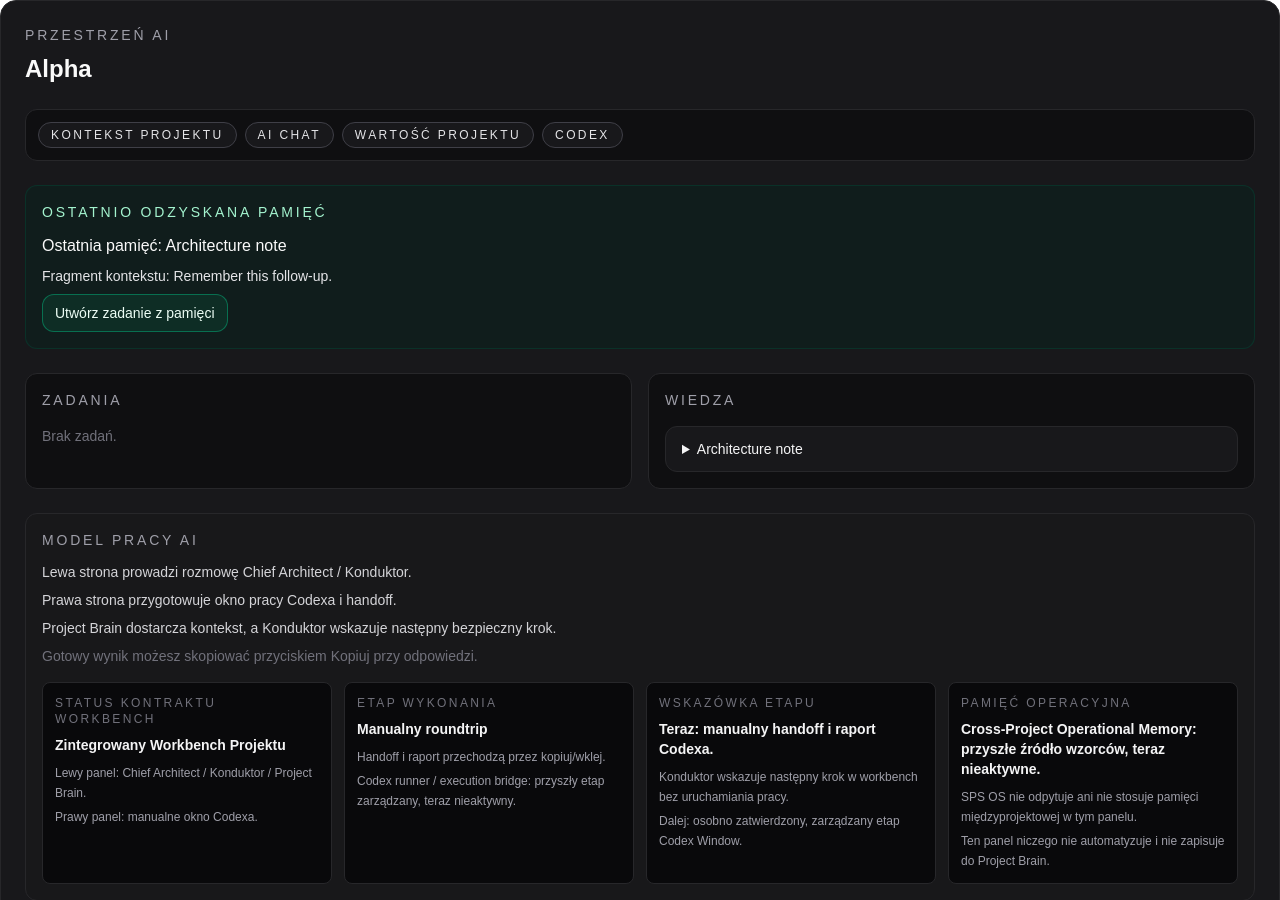
Scenario: ProjectAiWorkspacePage › creates a task from the latest retrieved memory and keeps it through refresh
Check: the heading "Alpha" is shown, box x1=25 y1=55 x2=92 y2=82
Click the button "Utwórz zadanie z pamięci": (135, 313) x1=42 y1=294 x2=228 y2=332
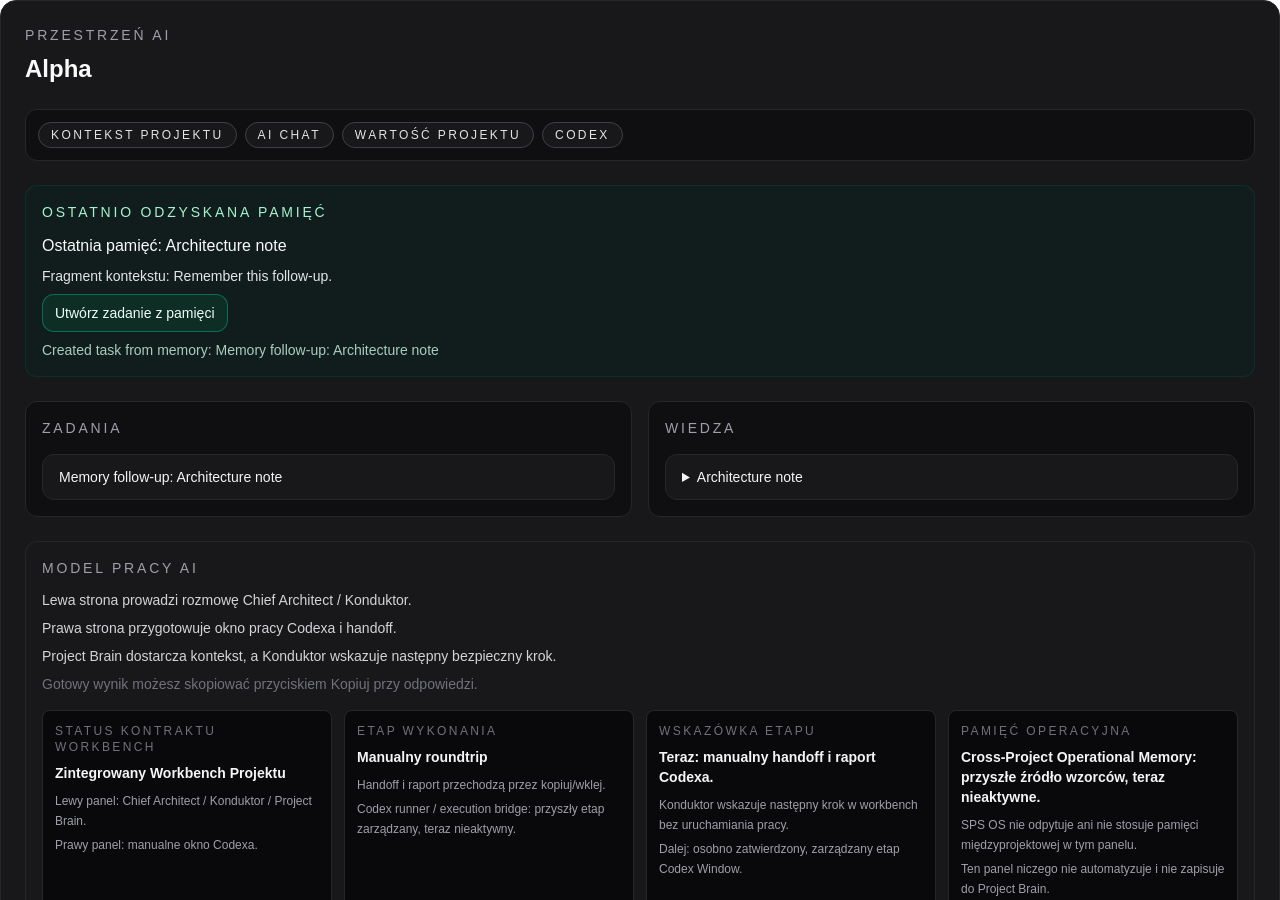
Check: the text "Fragment kontekstu: Remember this follow-up." is shown, box x1=42 y1=268 x2=332 y2=284
Check: the list item "Memory follow-up: Architecture note" is shown, box x1=42 y1=454 x2=615 y2=500
Check: the text "Created task from memory: Memory follow-up: Architecture note" is shown, box x1=42 y1=342 x2=439 y2=358
